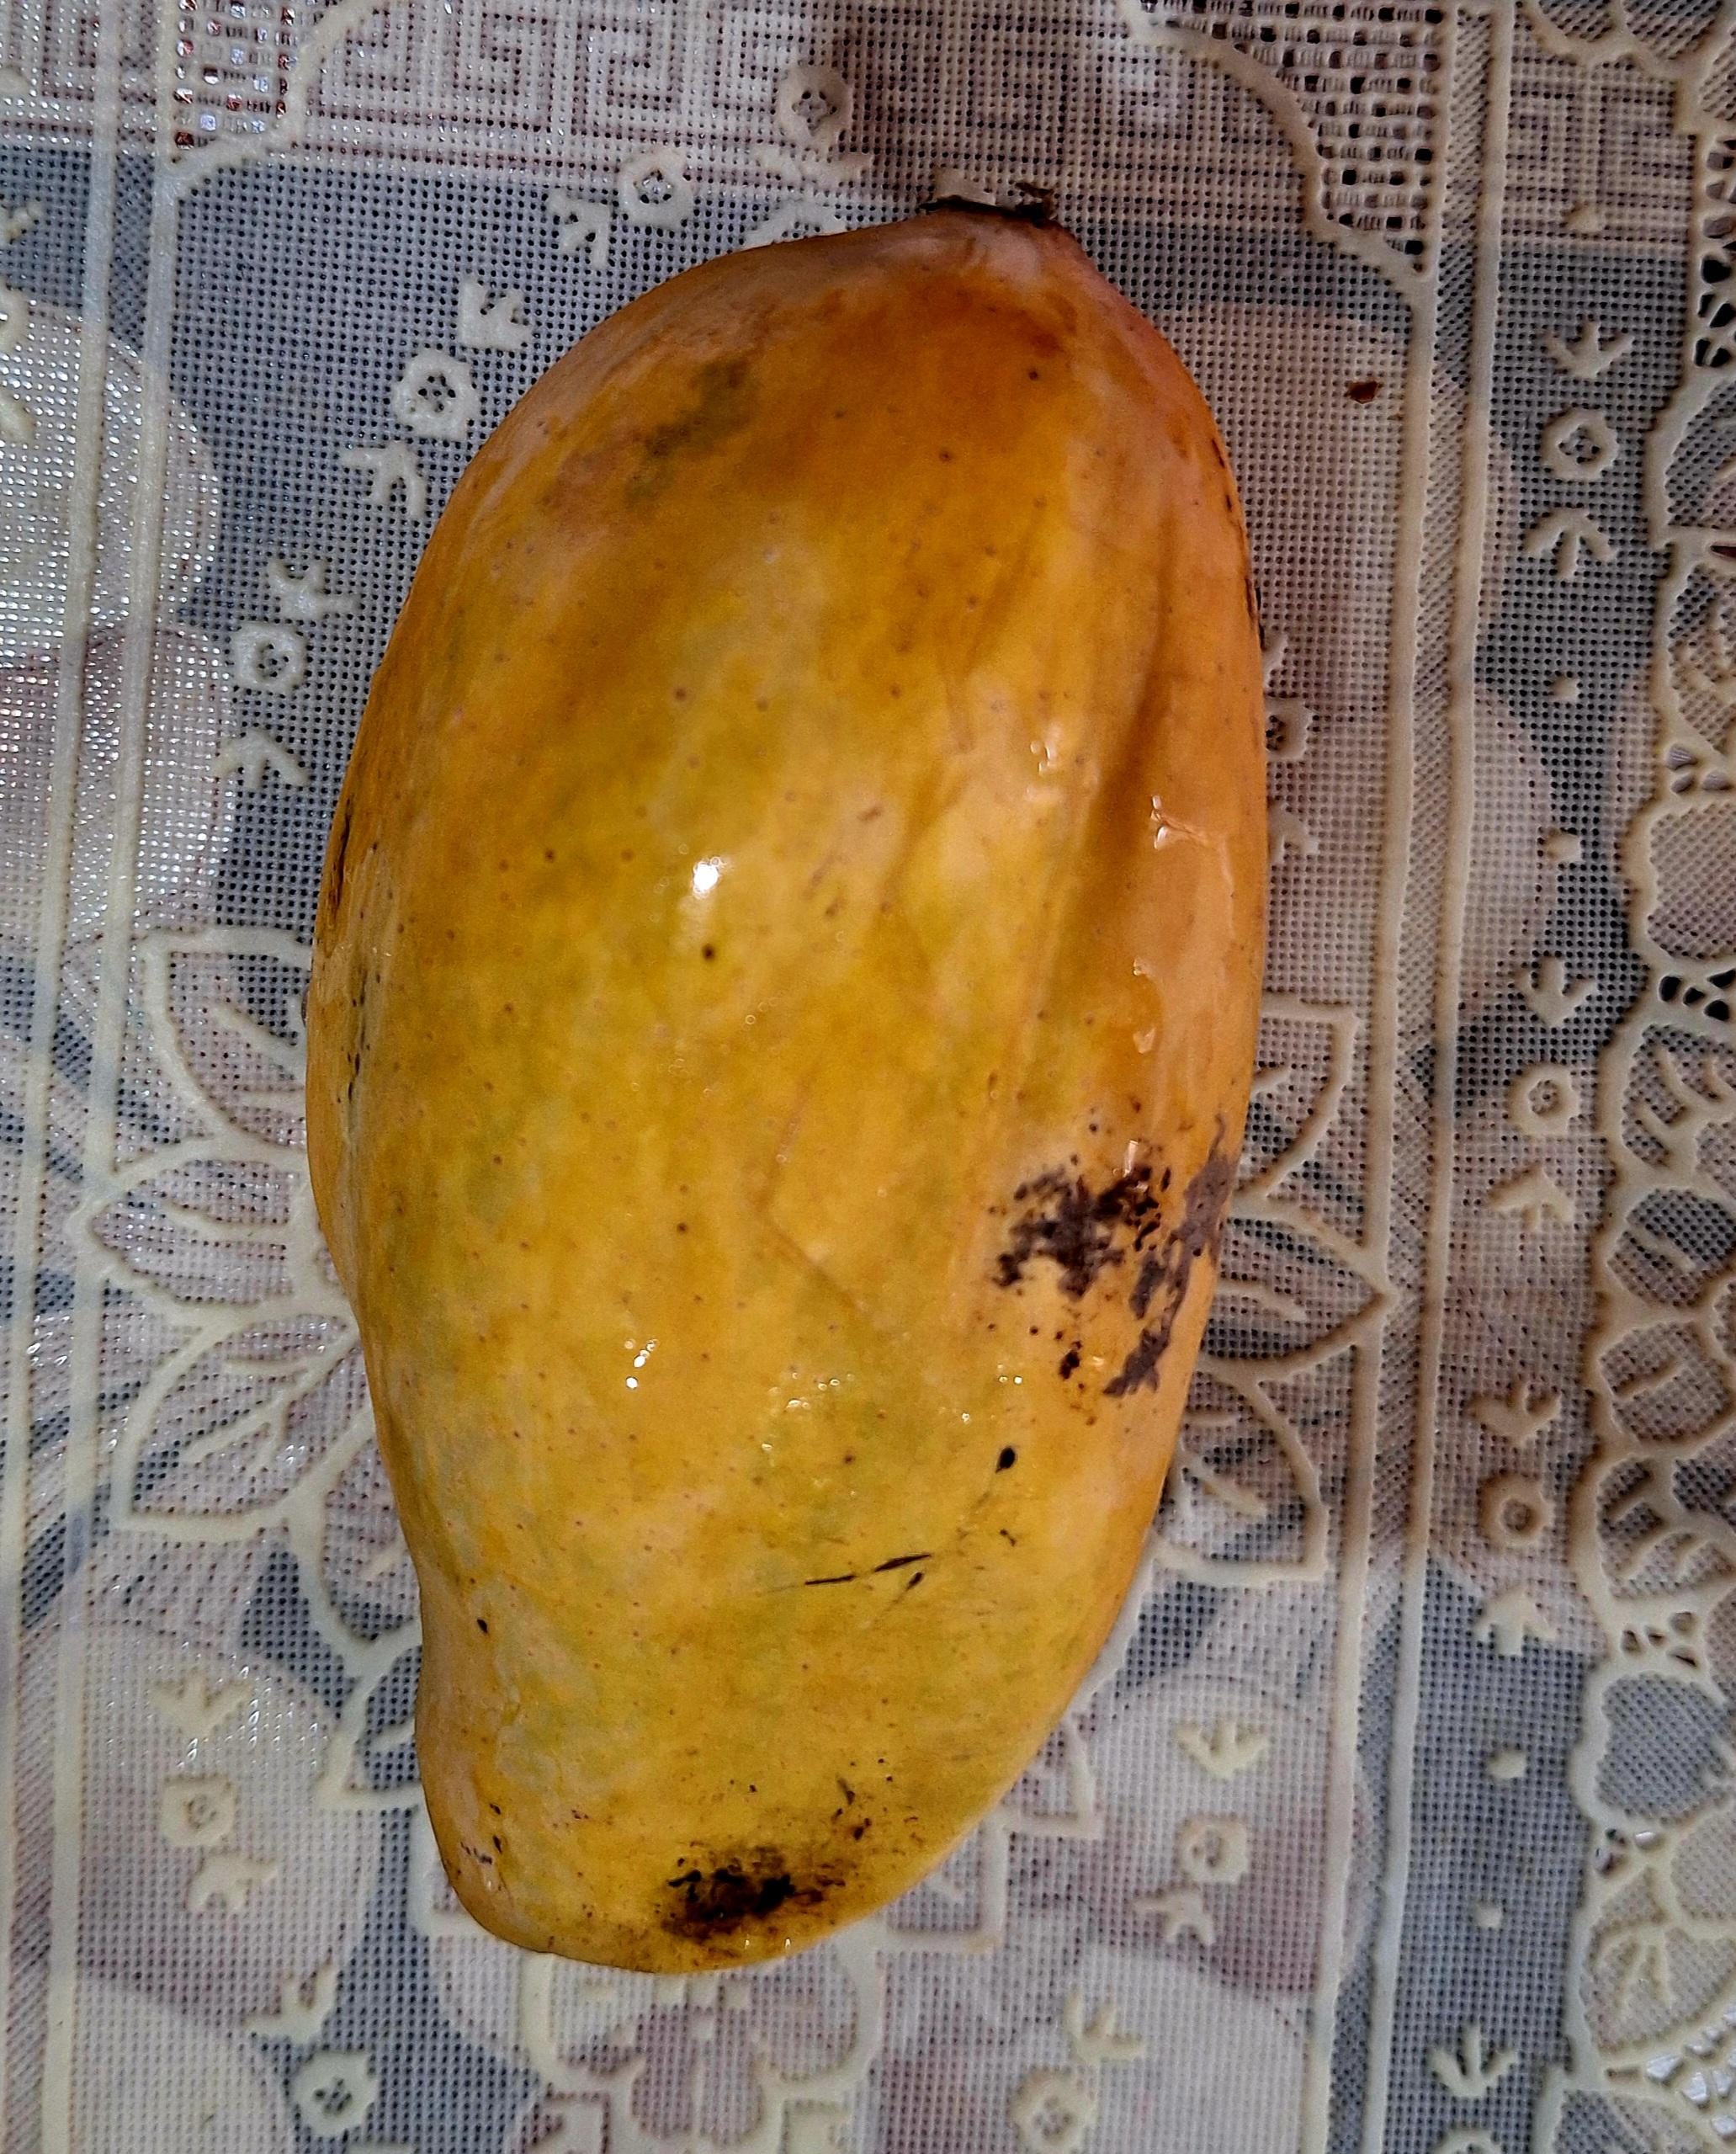mango: (303, 195, 1272, 1973)
